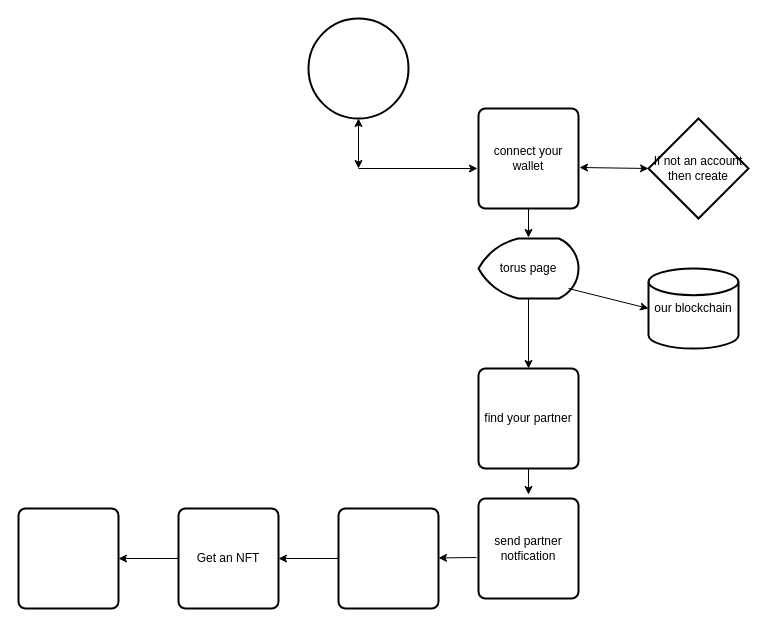
The diagram is 766 pixels wide and 626 high, and some of its shapes have lost their labels. The shapes that lost their labels are listed below. From the top down, each one's box as (x1, y1, x2, y2) in pixels, then its label:
(307, 17, 409, 119): start
(17, 507, 119, 609): view NFT
(337, 507, 439, 609): Match
